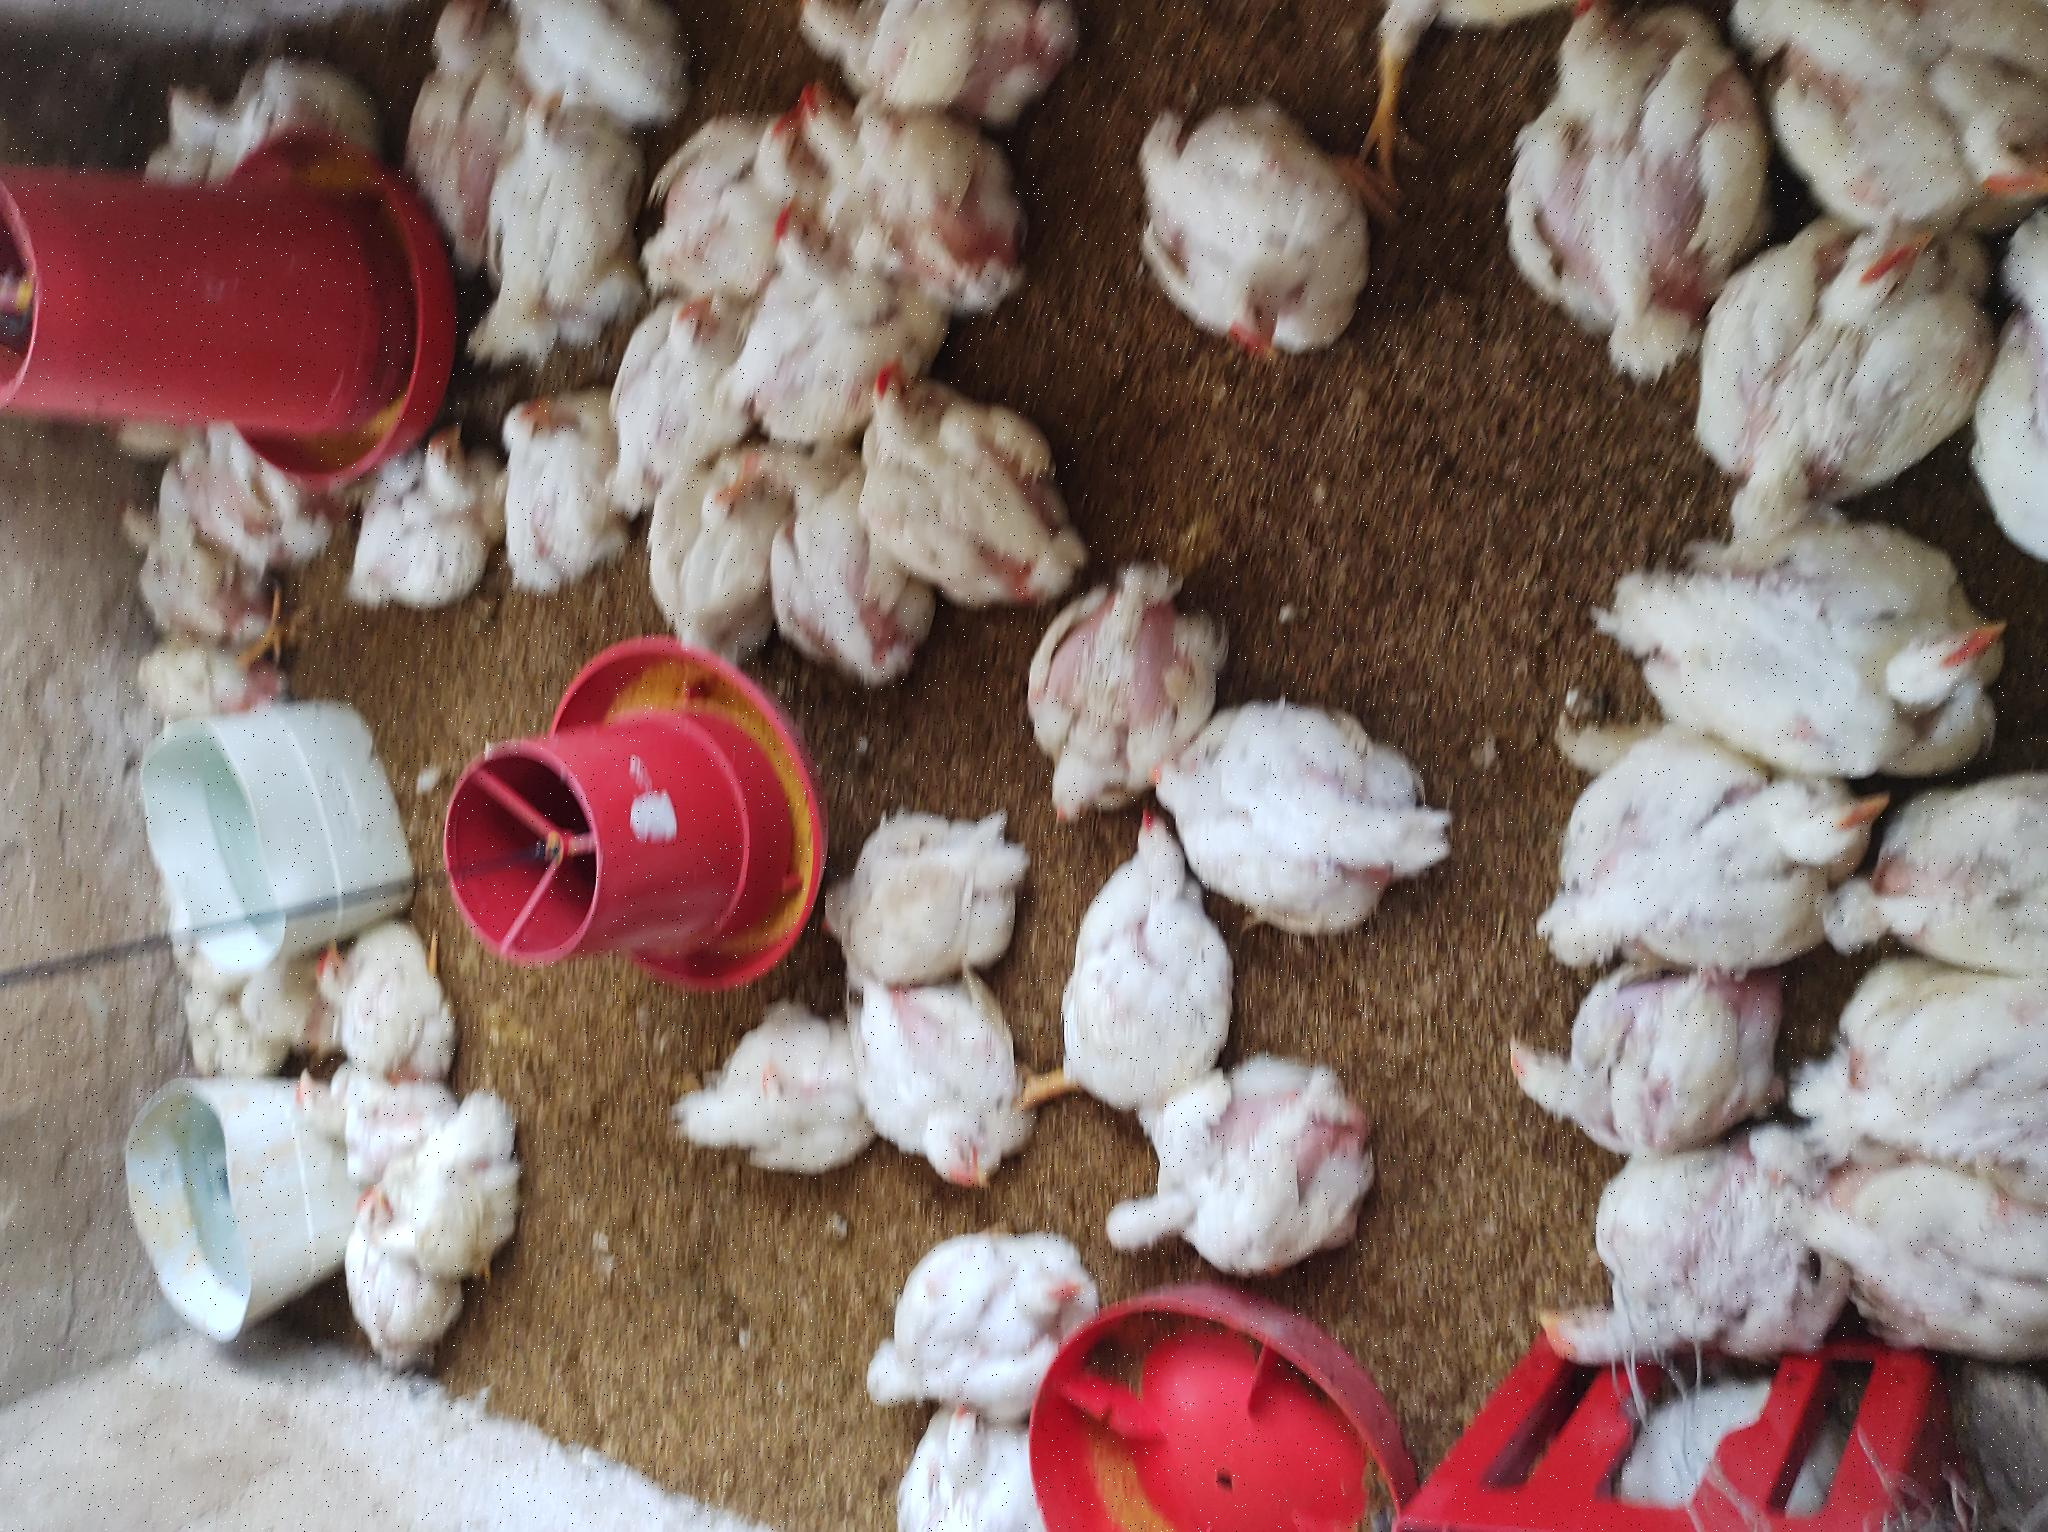Pollos: (206, 1085, 465, 1381), (610, 1154, 872, 1440), (402, 1035, 721, 1258), (1174, 1143, 1450, 1378), (920, 855, 1189, 1072), (121, 850, 314, 1099), (1232, 800, 1441, 1023), (549, 806, 755, 1032), (338, 850, 555, 1056), (705, 1040, 978, 1202), (322, 652, 529, 855), (1187, 502, 1432, 652), (1306, 369, 1533, 515), (1437, 768, 1533, 1101), (928, 344, 1105, 499), (877, 652, 1094, 776), (923, 492, 1142, 615), (1364, 154, 1482, 372), (166, 320, 365, 446), (1083, 592, 1240, 743), (470, 311, 602, 468), (1297, 673, 1437, 792), (817, 122, 903, 315), (364, 1464, 578, 1532), (853, 817, 957, 946), (373, 278, 491, 380), (956, 98, 1063, 185), (1236, 755, 1318, 864)
